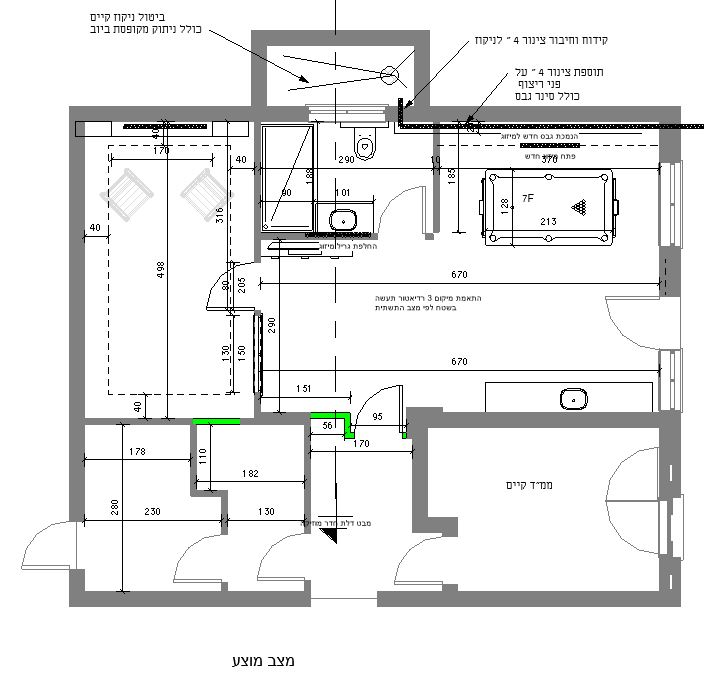door: (589, 289, 657, 357), (602, 498, 653, 559), (11, 518, 63, 577), (164, 531, 215, 588), (384, 536, 438, 588), (253, 535, 298, 586), (379, 183, 430, 225), (363, 383, 407, 418)
wall: (414, 412, 652, 428), (72, 133, 82, 512), (70, 592, 301, 606), (393, 593, 660, 605), (81, 107, 280, 121), (485, 109, 672, 121), (412, 416, 427, 524), (339, 32, 425, 44), (264, 31, 322, 44)
window: (653, 161, 685, 248), (652, 350, 691, 412), (306, 100, 386, 127)
